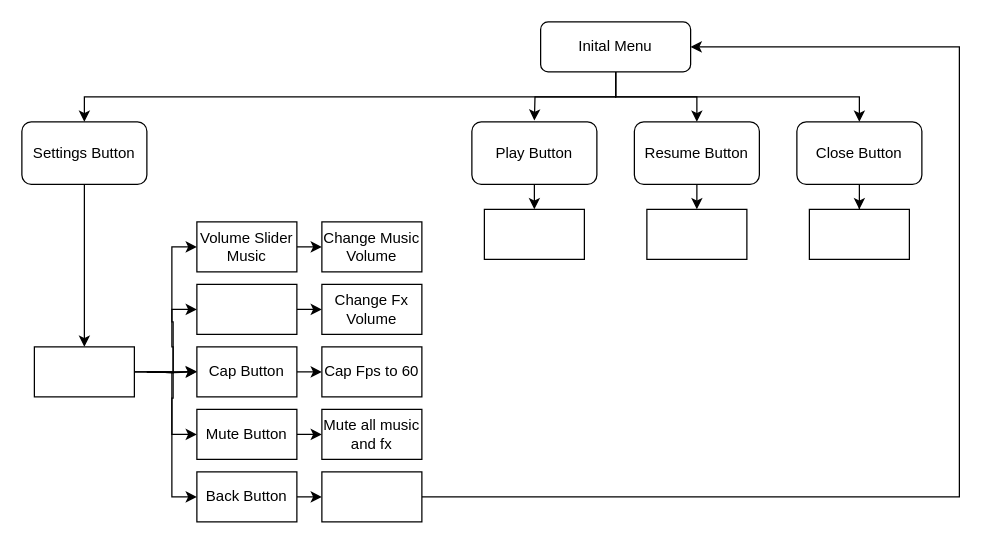
This 991x544 diagram has some shape labels left out. The shapes that lost their labels are listed below. From the top down, each one's centre as x and y in pixels, then its label:
At (x=533, y=233): "Start Game".
At (x=696, y=233): "Load Save Game".
At (x=858, y=233): "Close Game".
At (x=246, y=308): "Volume Slider Fx".
At (x=83, y=371): "Settings Menu".
At (x=371, y=496): "Return to Initial Menu".
